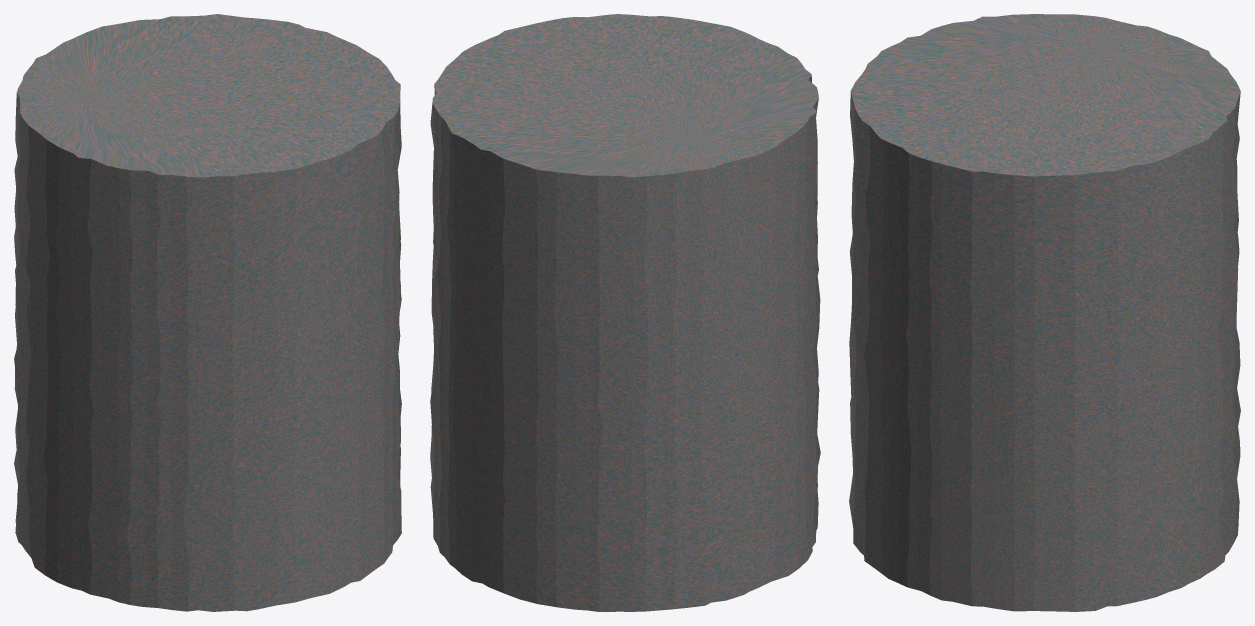
File: barrel_54.dae
3 views of the same model, side by side, from view 1: azimuth 30°, elevation 25°; view 2: azimuth 150°, elevation 25°; view 3: azimuth 270°, elevation 25° (orthographic).
Visible parts, largest first — view 1: Cylinder; view 2: Cylinder; view 3: Cylinder.
Part boxes in pixels (x1,y1,x2,y2): Cylinder: (14, 14, 401, 611); Cylinder: (430, 14, 820, 611); Cylinder: (849, 14, 1240, 611).
Bounding box in the file's own units: 0.817 × 0.8152 × 1.
Materials: 1 (1 with a texture image).
